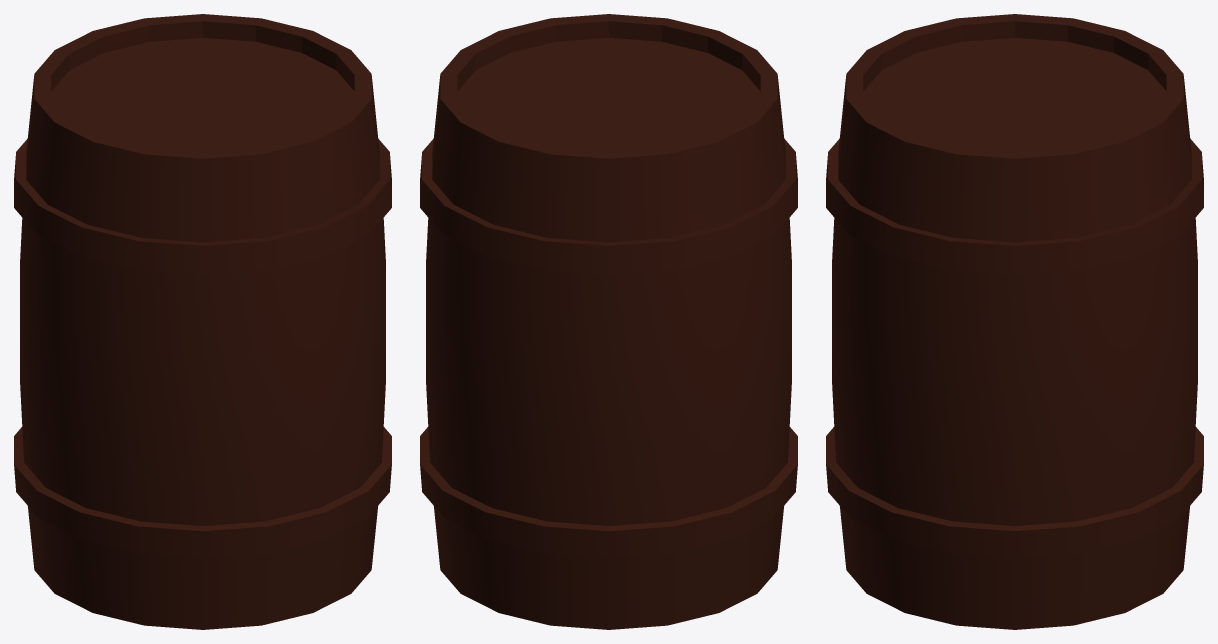
File: Barrel.FBX
3 renders of one model, left to right at view 1: azimuth 30°, elevation 25°; view 2: azimuth 150°, elevation 25°; view 3: azimuth 270°, elevation 25°, orthographic.
Visible parts, largest first — view 1: Barrel; view 2: Barrel; view 3: Barrel.
Part boxes in pixels (x1,y1,x2,y2): Barrel: [14, 14, 391, 629]; Barrel: [420, 14, 797, 629]; Barrel: [826, 14, 1203, 629].
Bounding box in the file's own units: 1.58 × 2.14 × 1.56.
